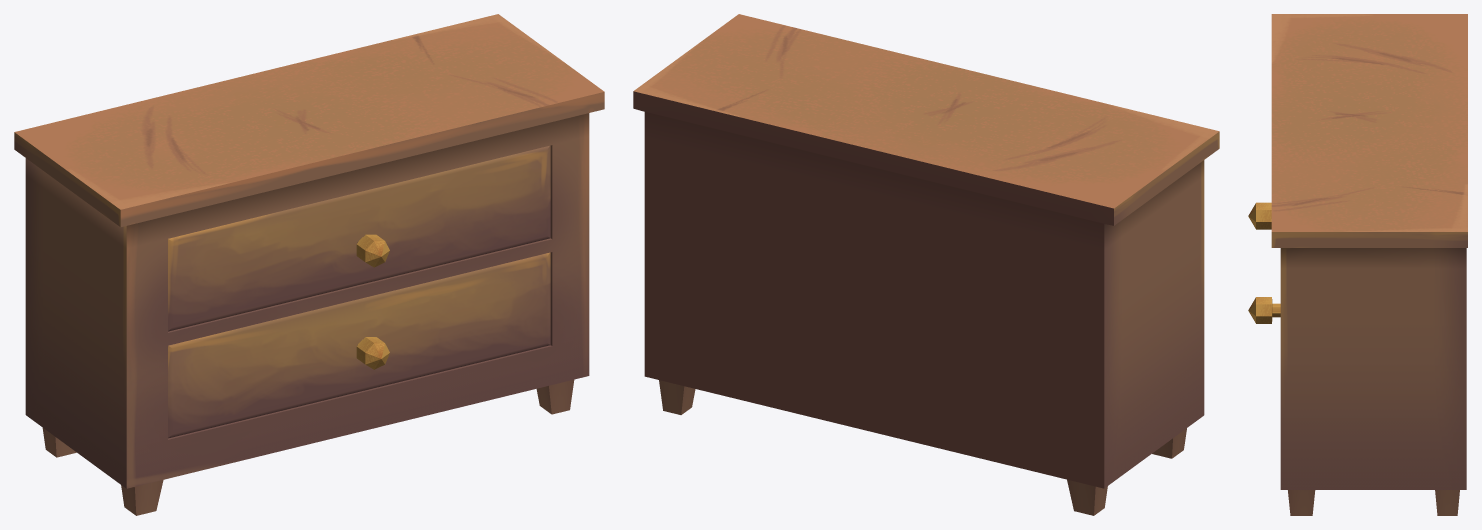
File: Drawer.fbx
The picture shows the model from 3 angles, left to right: view 1: azimuth 30°, elevation 25°; view 2: azimuth 150°, elevation 25°; view 3: azimuth 270°, elevation 25°; orthographic projection. The views are drawn at different scales.
Parts seen in each view (by area): view 1: Drawer; view 2: Drawer; view 3: Drawer.
Boxes of the visible parts, <box> form: Drawer: <box>14,14,604,515</box>; Drawer: <box>633,14,1219,515</box>; Drawer: <box>1248,14,1467,515</box>.
Bounding box in the file's own units: 190 × 80.97 × 120.
